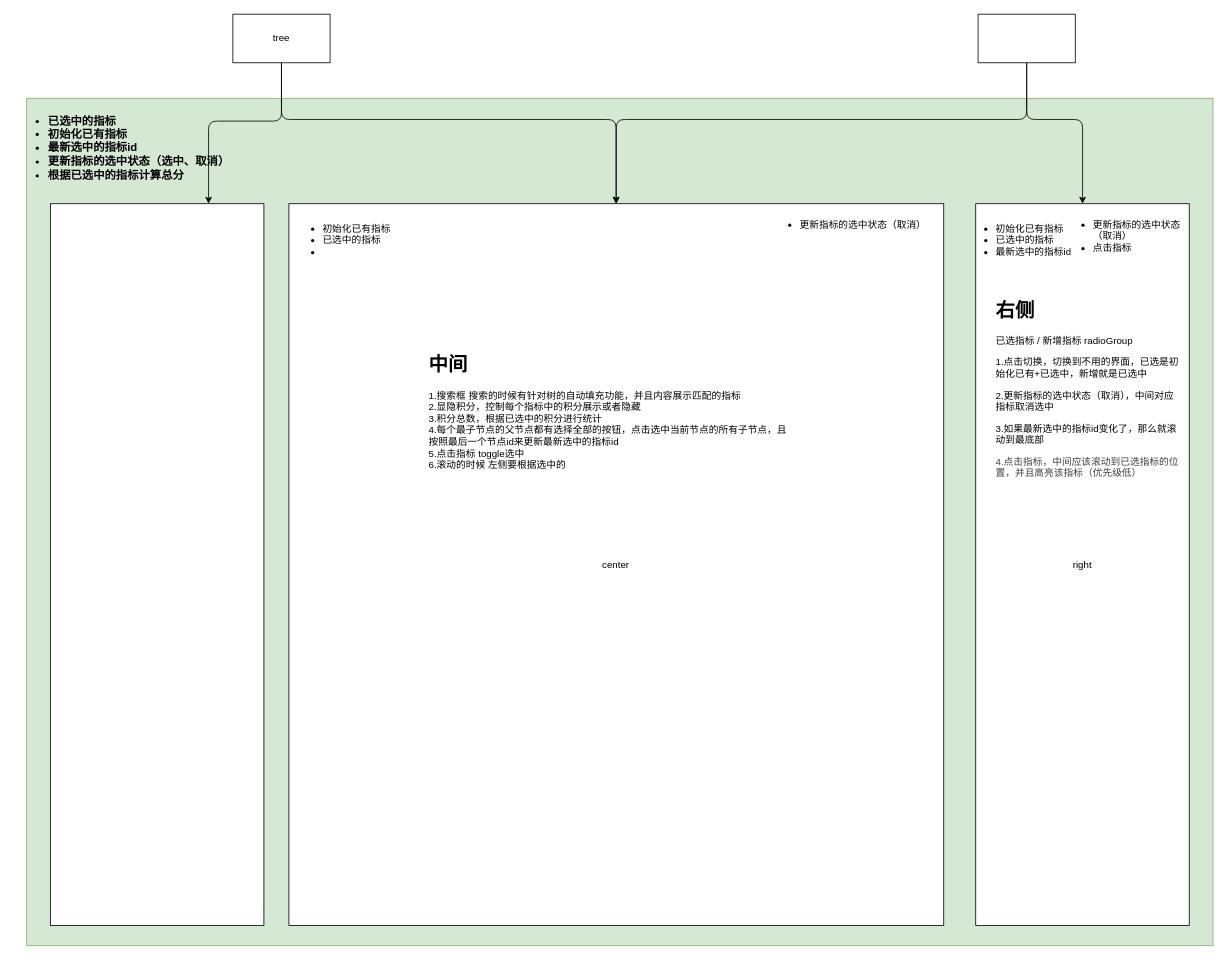
The diagram is 1227 pixels wide and 960 high, and some of its shapes have lost their labels. The shapes that lost their labels are listed below. From the top down, each one's centre as x and y in pixels, then its label:
At pixel 1026 38: "初始化已有指标".
At pixel 157 564: "left".
